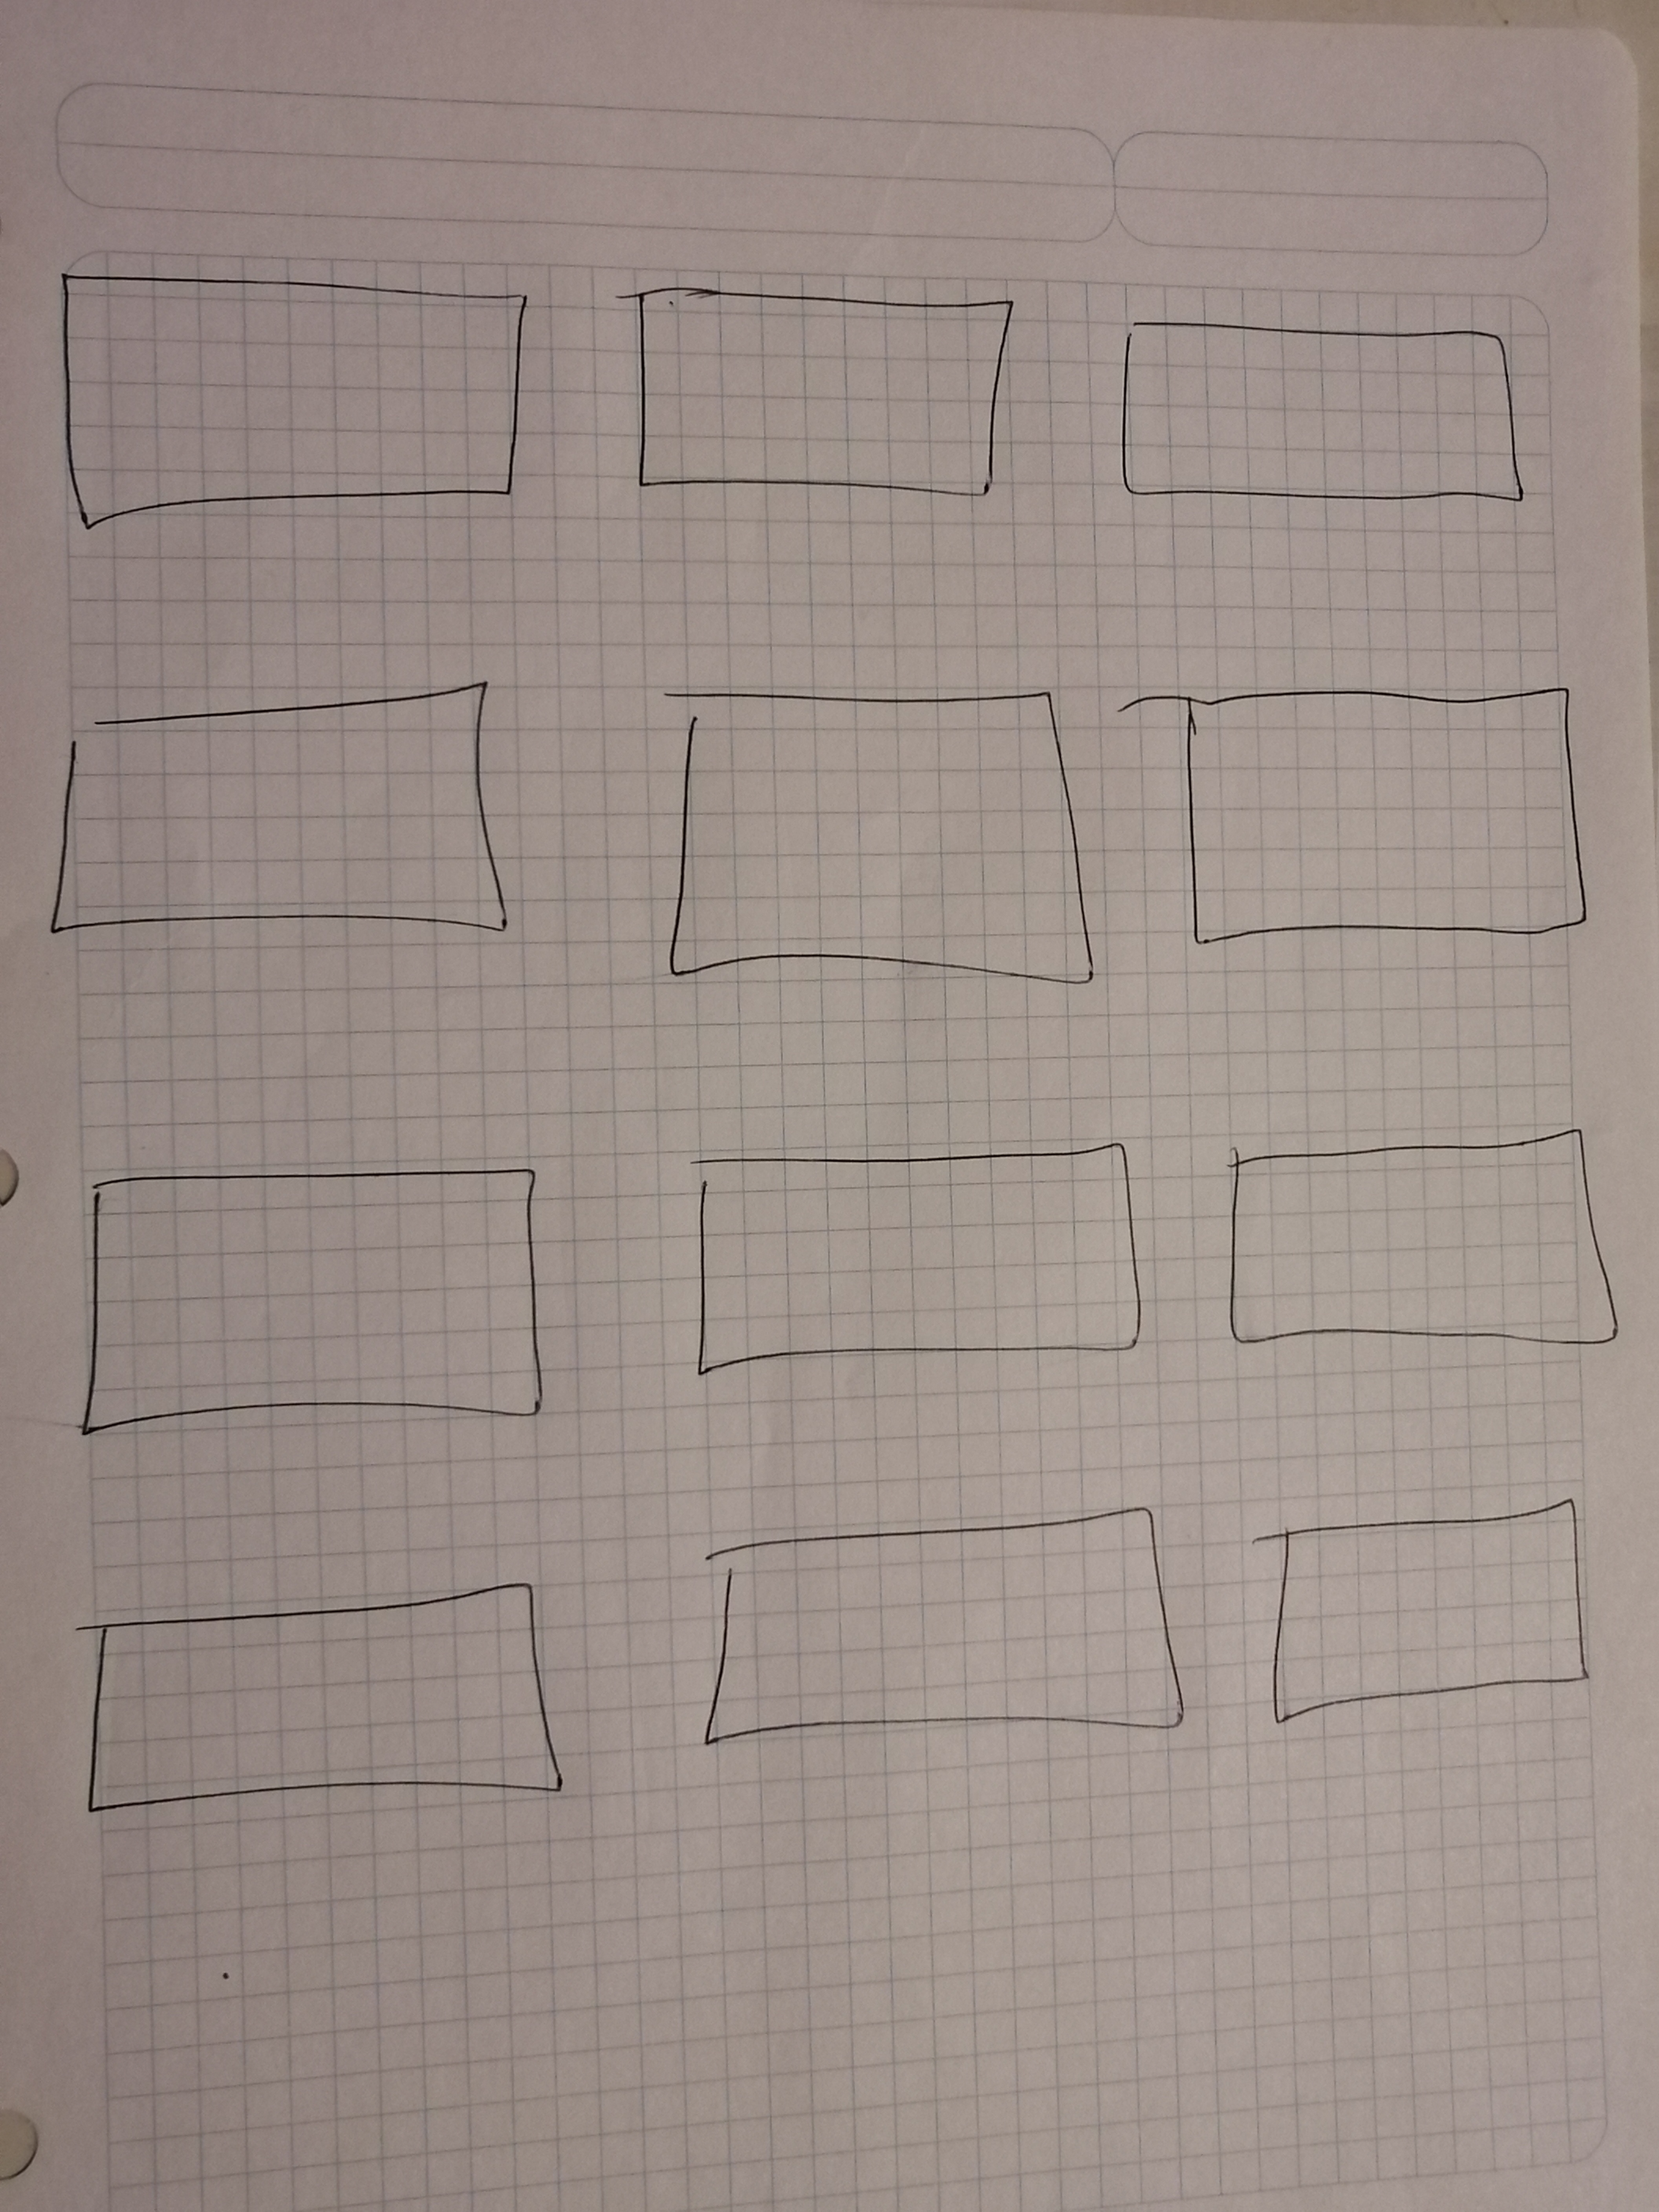process: (610, 634, 1121, 1024), (42, 1552, 592, 1898), (28, 216, 556, 573), (49, 1130, 586, 1474), (667, 1474, 1216, 1799), (38, 657, 535, 995), (1148, 657, 1614, 998), (648, 1120, 1171, 1402), (1073, 284, 1581, 542), (1209, 1113, 1645, 1395), (592, 263, 1035, 531), (1249, 1477, 1617, 1766)
